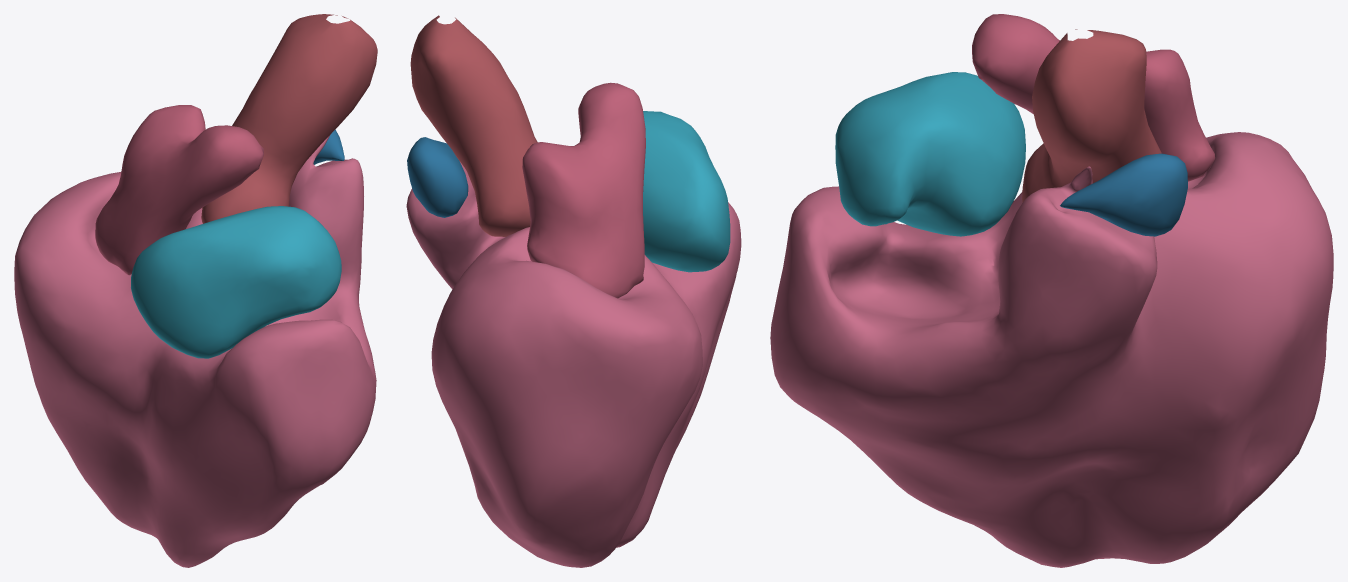
Rendered from frame_33.glb.
The picture shows the model from 3 angles, left to right: view 1: azimuth 30°, elevation 25°; view 2: azimuth 150°, elevation 25°; view 3: azimuth 270°, elevation 25°; orthographic projection. The views are drawn at different scales.
Visible parts, largest first — view 1: Renderer Node; view 2: Renderer Node; view 3: Renderer Node.
Boxes of the visible parts, box(x1,y1,x2,y2) form: Renderer Node: box(14, 14, 377, 567); Renderer Node: box(406, 15, 741, 567); Renderer Node: box(770, 14, 1333, 567).
Size of the model in its own units: 103 by 161 by 130.
